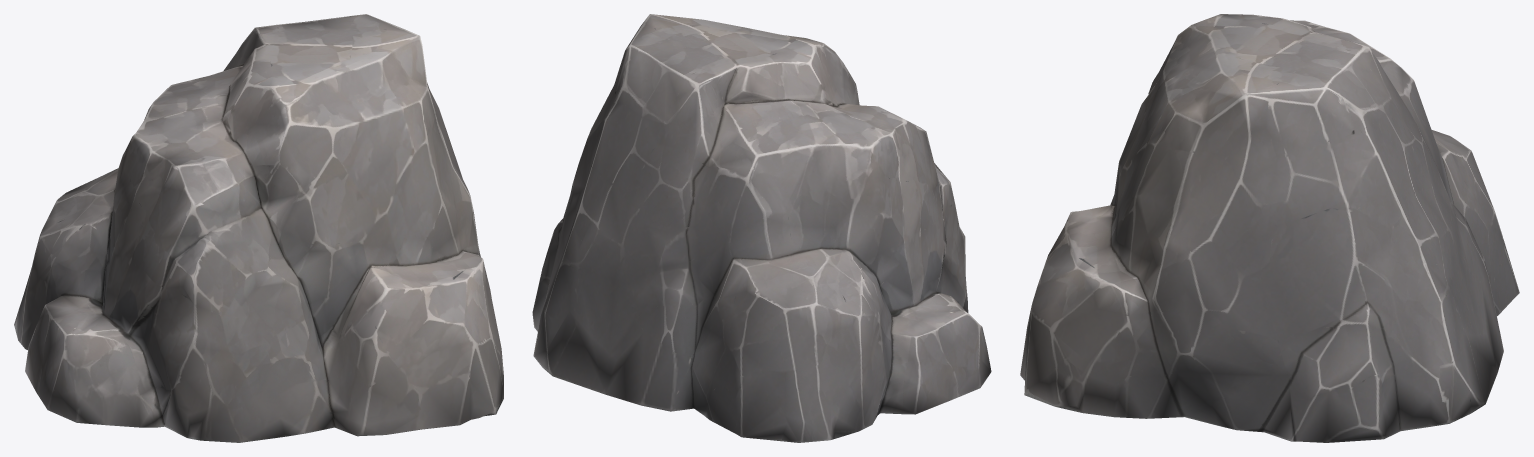
File: stone_cluster.glb
3 views of the same model, side by side, from view 1: azimuth 30°, elevation 25°; view 2: azimuth 150°, elevation 25°; view 3: azimuth 270°, elevation 25° (orthographic). The views are drawn at different scales.
Bounding box in the file's own units: 1.9 × 1.27 × 1.82.
1 material, 1 textured.
